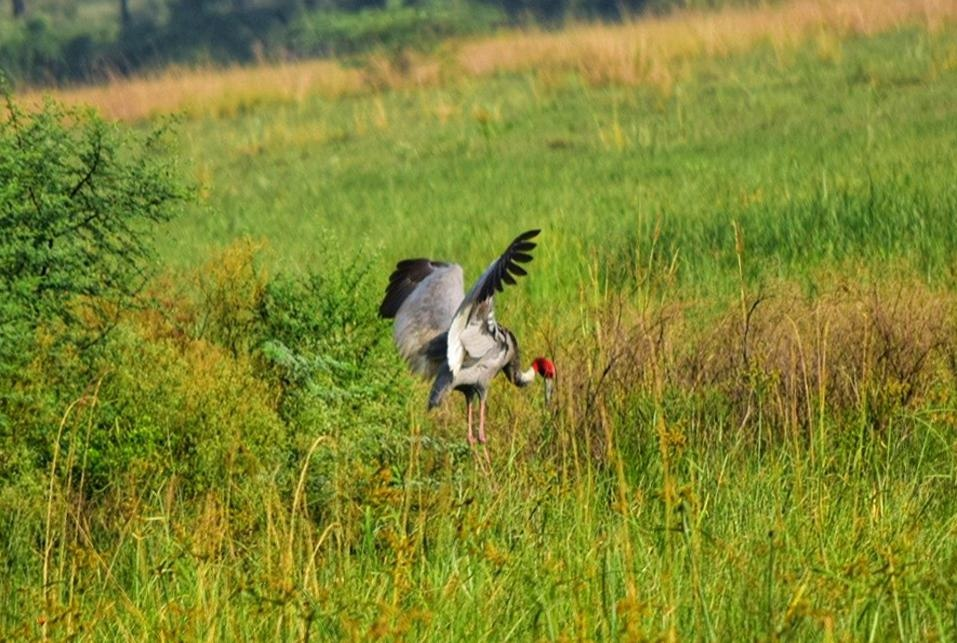crane: (386, 215, 570, 469)
